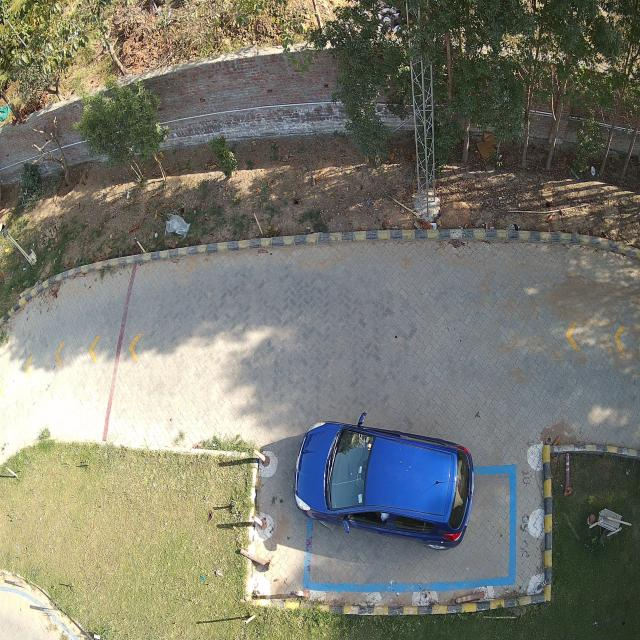car: (294, 413, 474, 550)
